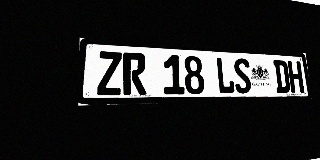1: (163, 54, 185, 95)
8: (183, 55, 205, 94)
D: (273, 60, 291, 93)
H: (287, 61, 304, 93)
L: (215, 57, 235, 94)
R: (123, 52, 146, 95)
S: (233, 58, 252, 94)
Z: (97, 51, 122, 95)
